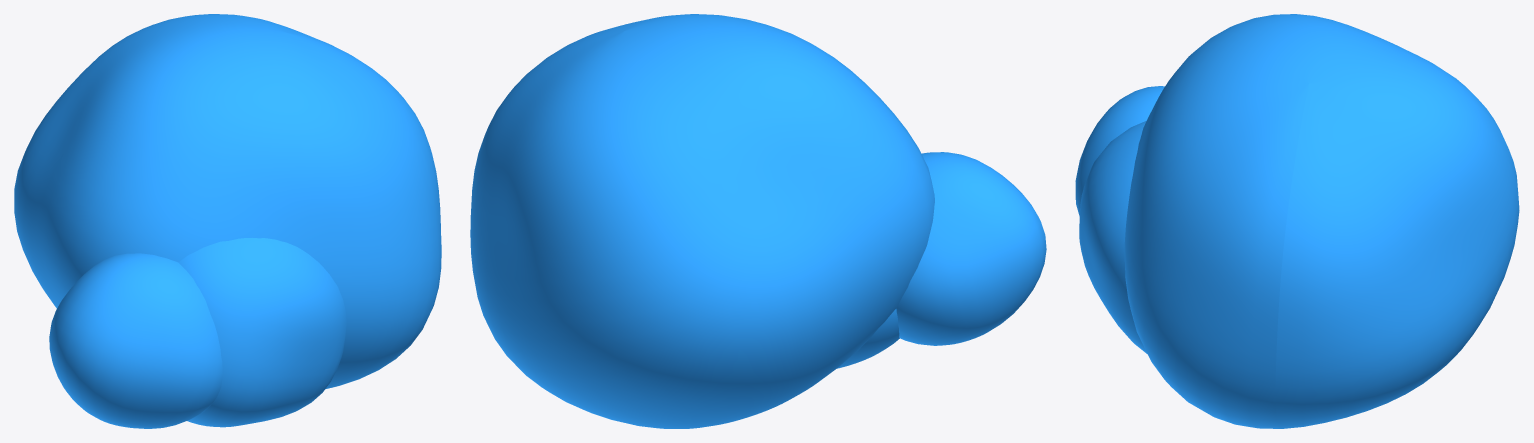
The model's file is LovenseOrb_Cyan.dae.
The picture shows the model from 3 angles, left to right: view 1: azimuth 30°, elevation 25°; view 2: azimuth 150°, elevation 25°; view 3: azimuth 270°, elevation 25°; orthographic projection. The views are drawn at different scales.
Parts seen in each view (by area): view 1: Cyan; view 2: Cyan; view 3: Cyan.
Boxes of the visible parts, x1=… form: Cyan: x1=14, y1=14, x2=441, y2=428; Cyan: x1=470, y1=14, x2=1046, y2=428; Cyan: x1=1075, y1=14, x2=1519, y2=428.
Size of the model in its own units: 0.0475 by 0.0423 by 0.0369.
